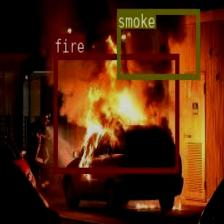fire: (53, 54, 178, 172)
smoke: (116, 8, 199, 78)
